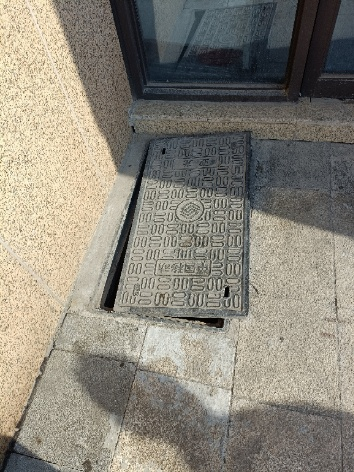uncovered: (88, 128, 249, 332)
